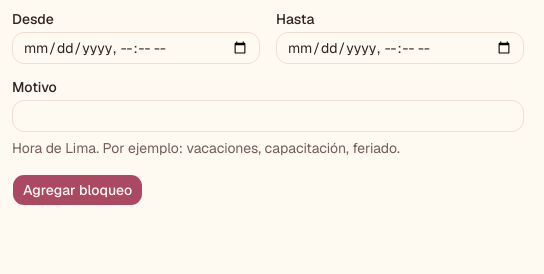
it: FormularioBloqueo › con errores los muestra por campo y conserva lo escrito
This screenshot has width=544, height=274.
Click the button "Agregar bloqueo": [78, 190] box [12,174,143,206]
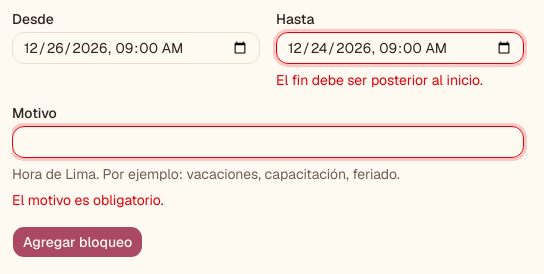
Result: the text "El motivo es obligatorio." is shown at [12,191,164,209]
Result: the text "El fin debe ser posterior al inicio." is shown at [276,71,483,89]
Result: the field labelled "Desde" holds "2026-12-26T09:00" at [12,32,260,64]
